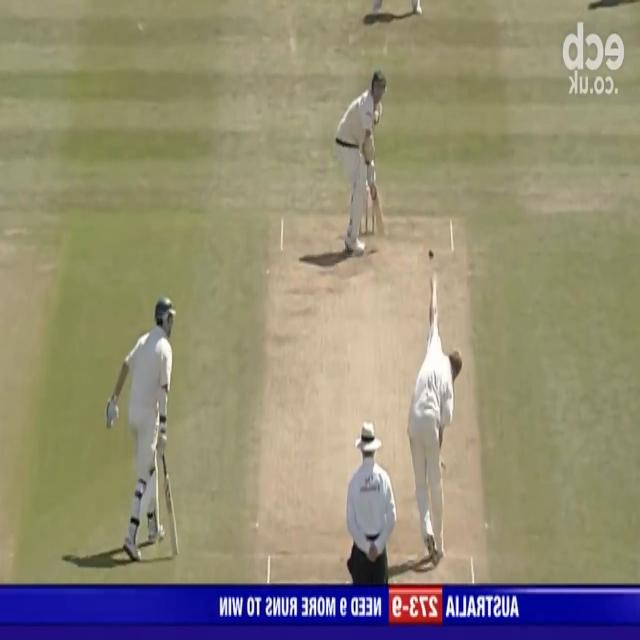ball: (426, 248, 435, 262)
